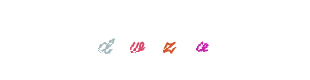D: (89, 0, 169, 80)
V: (162, 0, 242, 80)
W: (113, 0, 193, 80)
Z: (115, 0, 195, 80)
